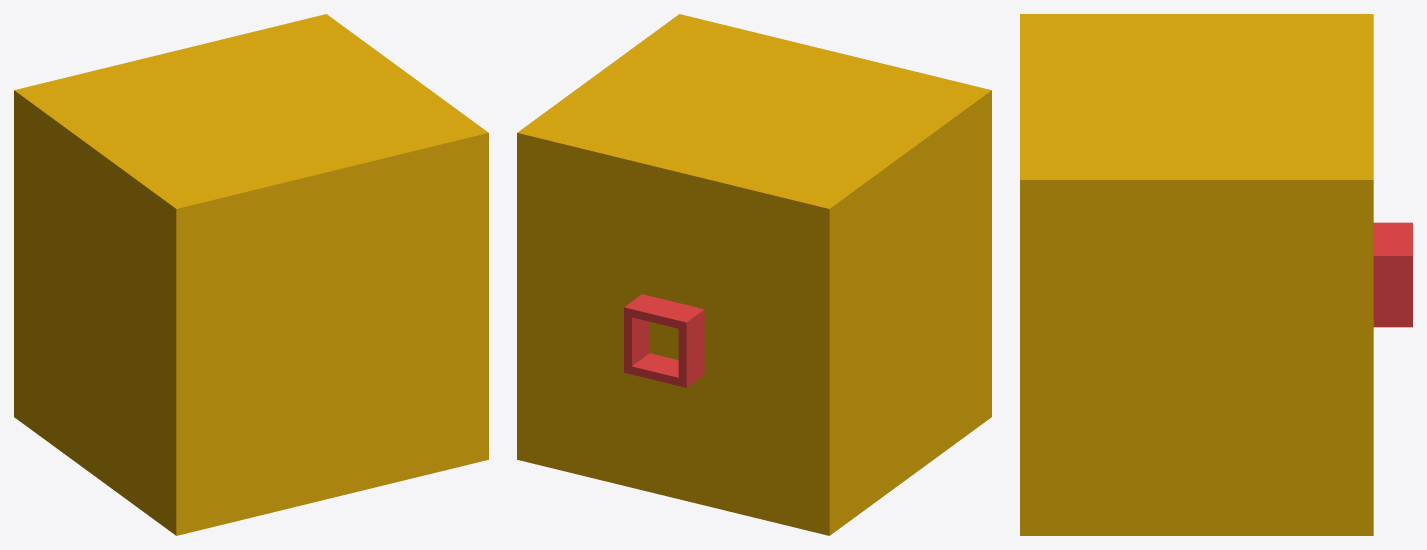
File: turret00.fbx
3 renders of one model, left to right at view 1: azimuth 30°, elevation 25°; view 2: azimuth 150°, elevation 25°; view 3: azimuth 270°, elevation 25°, orthographic. The views are drawn at different scales.
Parts seen in each view (by area): view 1: Cube; view 2: Cube, Cube.001; view 3: Cube, Cube.001.
Part boxes in pixels (x1,y1,x2,y2): Cube: (14,14,488,535); Cube: (517,14,991,535); Cube.001: (624,294,704,387); Cube: (1020,14,1373,535); Cube.001: (1373,222,1412,327).
Bounding box in the file's own units: 100 × 100 × 100.
